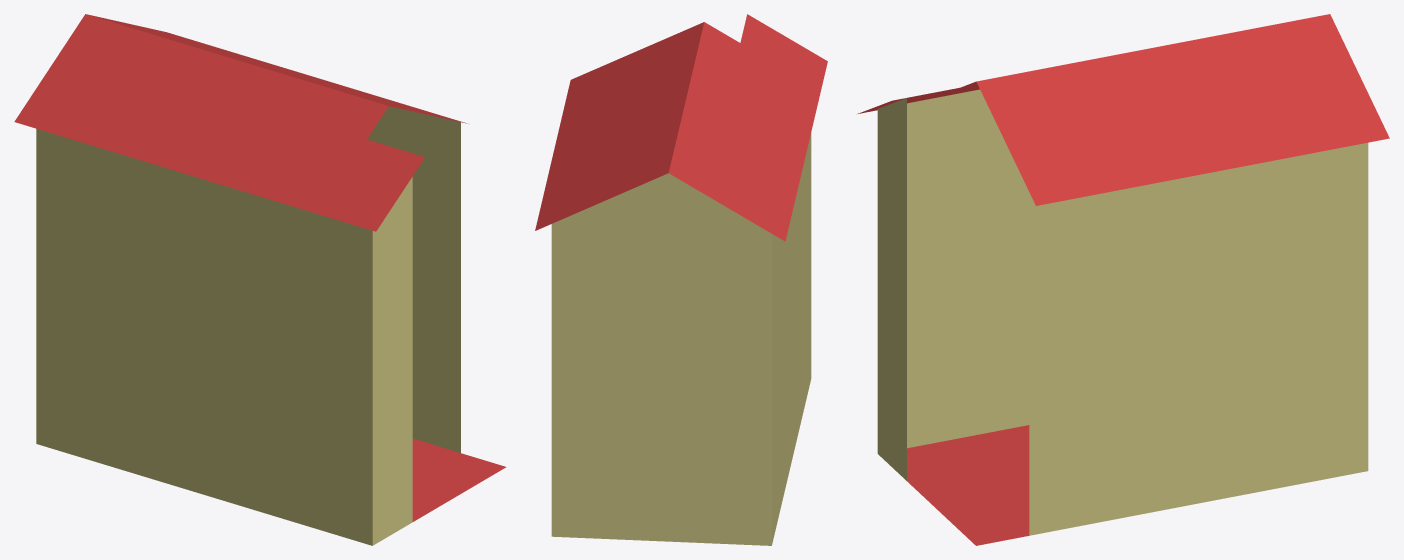
The picture shows the model from 3 angles, left to right: view 1: azimuth 30°, elevation 25°; view 2: azimuth 150°, elevation 25°; view 3: azimuth 270°, elevation 25°; orthographic projection. The views are drawn at different scales.
Size of the model in its own units: 6.37 by 8.16 by 6.83.
